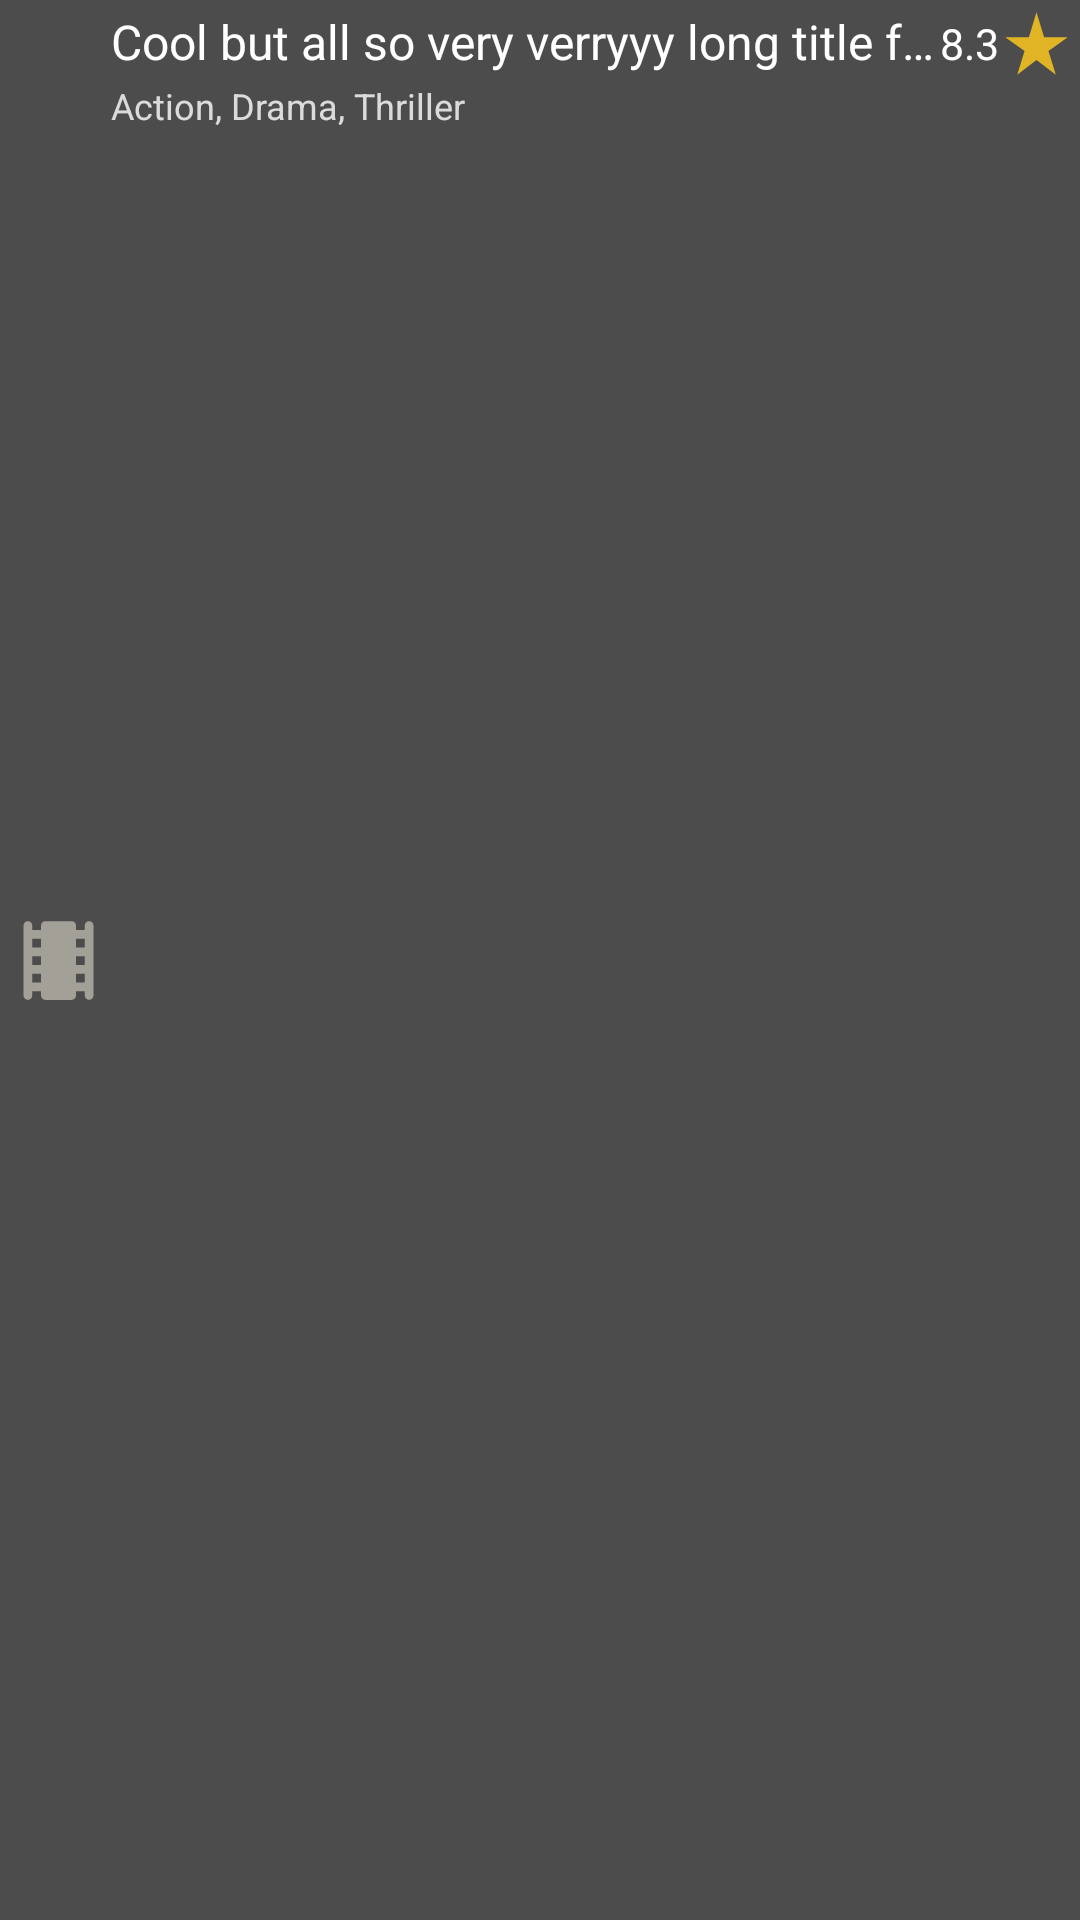

Named icons in this screenshot (1080x1920) and their centers, [x,y]:
star rating: [1036,43]
